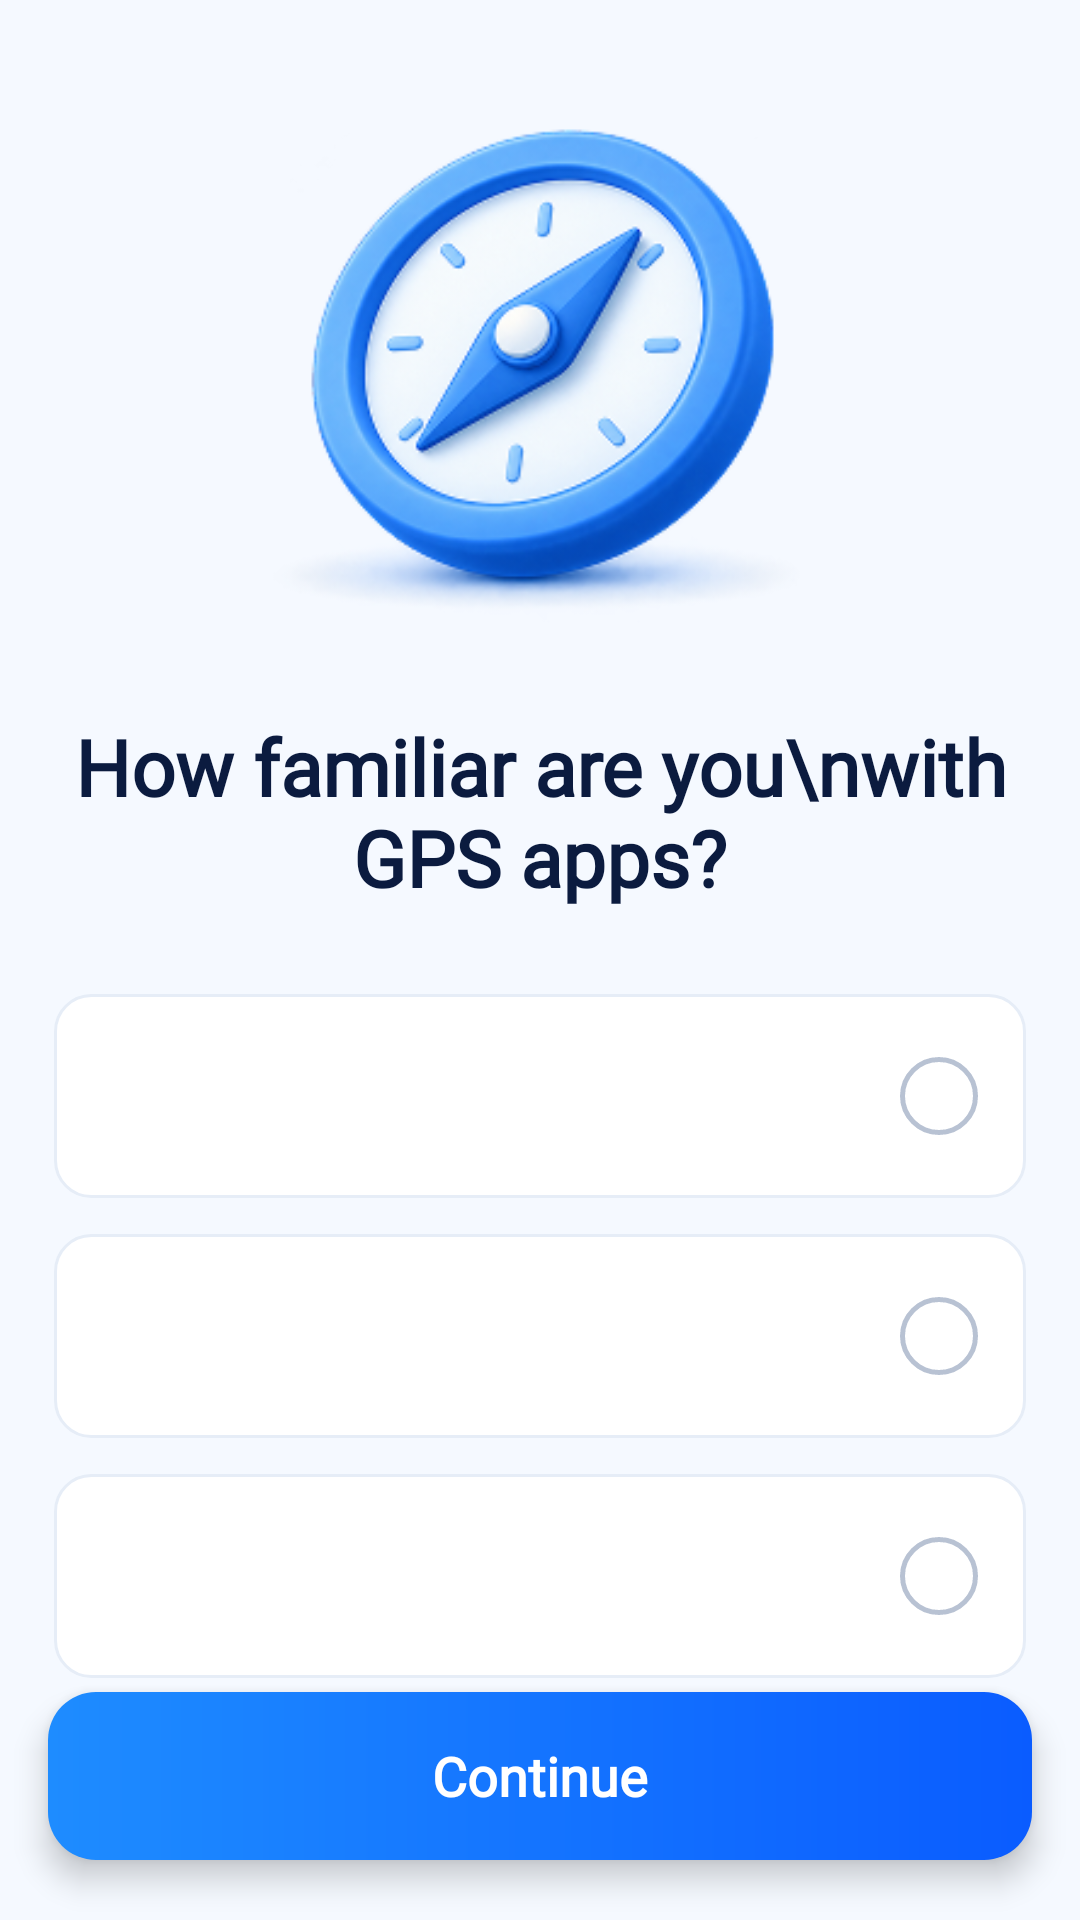

Named icons in this screenshot (1080px×1920px) and their centers, (x,y):
radio off: (939,1096), (939,1336), (939,1576)
